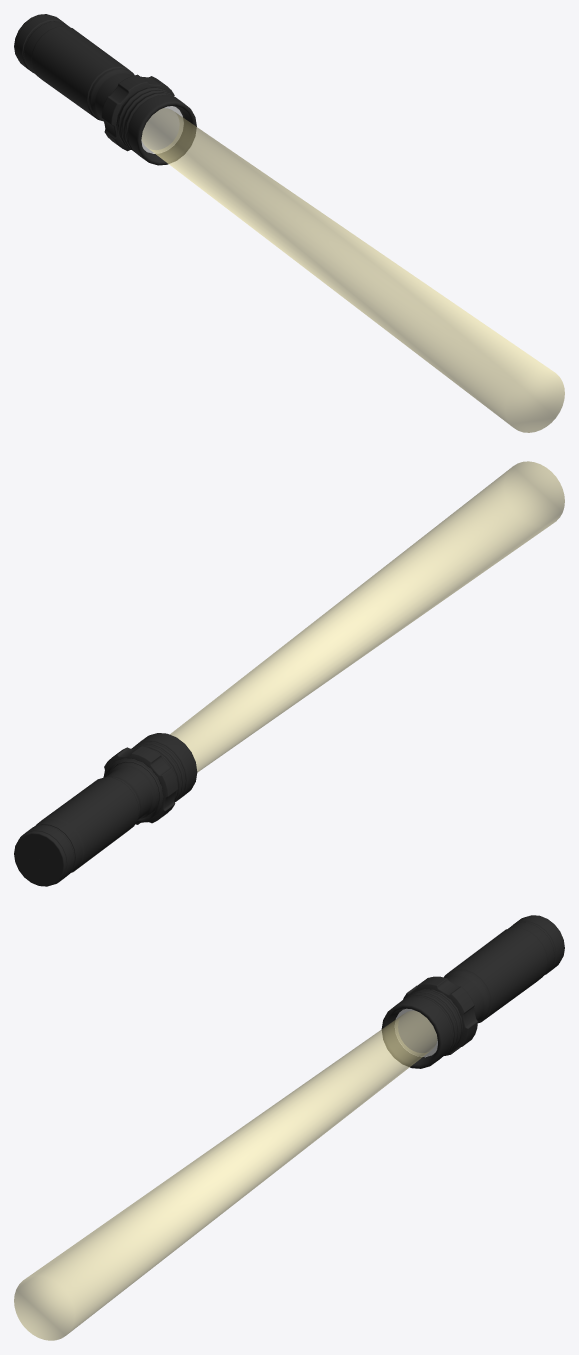
File: patrol_flashlight.fbx
3 renders of one model, top to bottom at view 1: azimuth 30°, elevation 25°; view 2: azimuth 150°, elevation 25°; view 3: azimuth 330°, elevation 25°, orthographic.
Parts seen in each view (by area): view 1: LIGHT_PATH.002_Cylinder.003; view 2: LIGHT_PATH.002_Cylinder.003; view 3: LIGHT_PATH.002_Cylinder.003.
Boxes of the visible parts, left/top/right/bottom form: LIGHT_PATH.002_Cylinder.003: left=14, top=14, right=564, bottom=432; LIGHT_PATH.002_Cylinder.003: left=14, top=461, right=564, bottom=886; LIGHT_PATH.002_Cylinder.003: left=14, top=915, right=564, bottom=1340.
Size of the model in its own units: 7.22 by 7.19 by 92.57.
